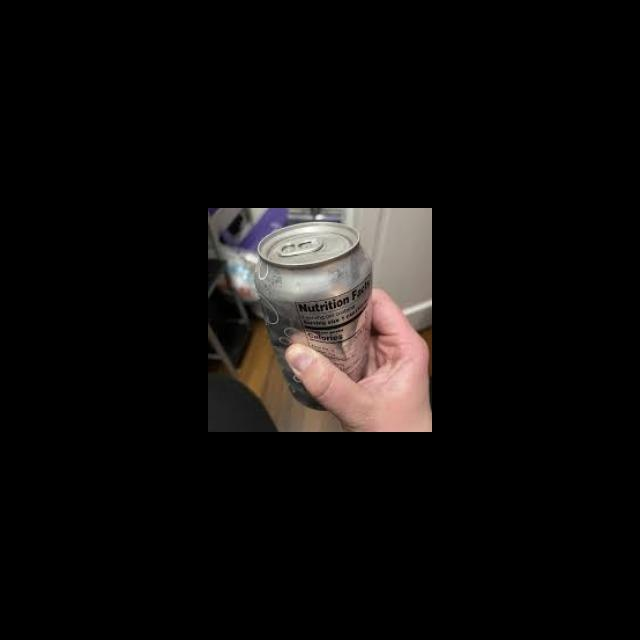metal: (255, 219, 374, 412)
